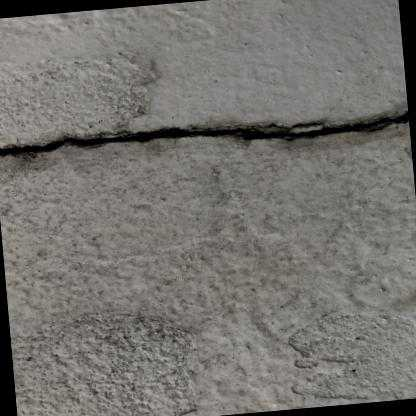crack: (0, 113, 409, 155)
